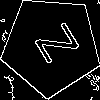Z: (26, 21, 80, 71)
